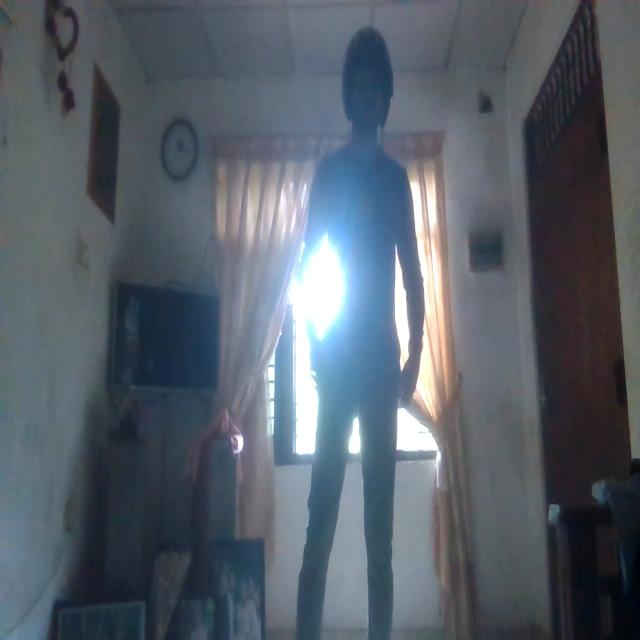Helmet_Wearer: (338, 26, 400, 148)
Person: (306, 31, 434, 640)
